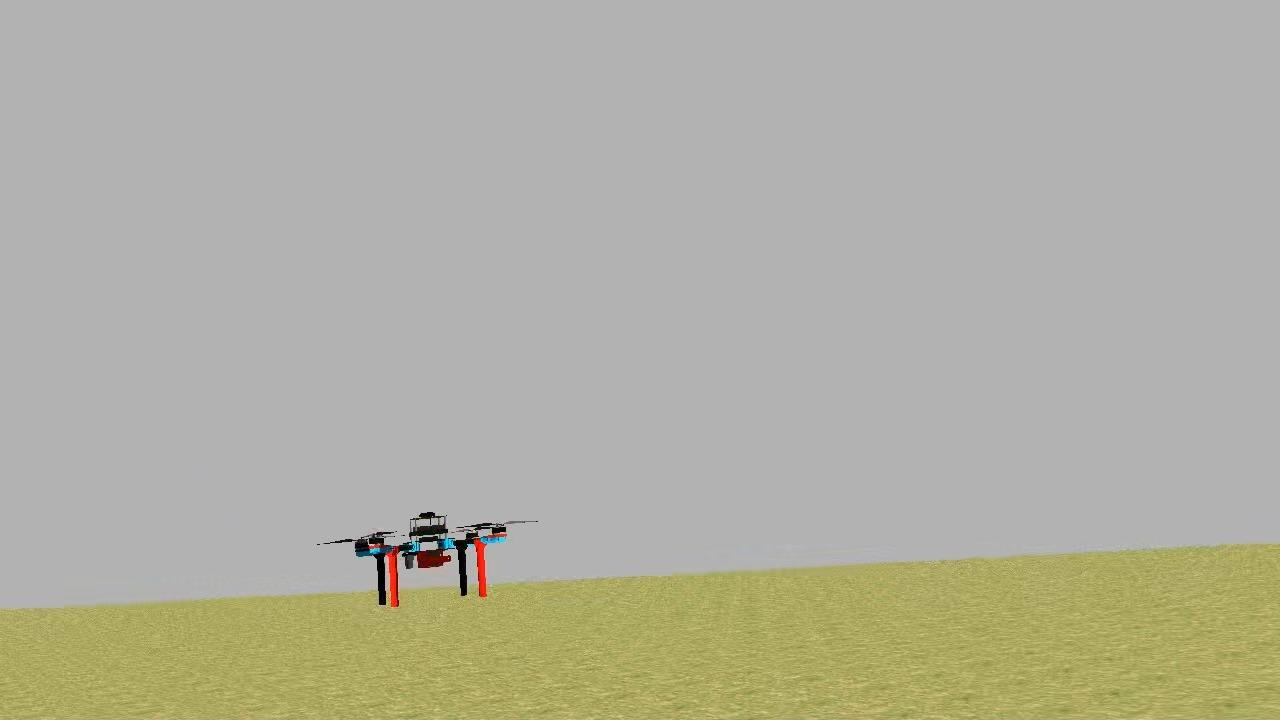UAV: (350, 506, 514, 612)
